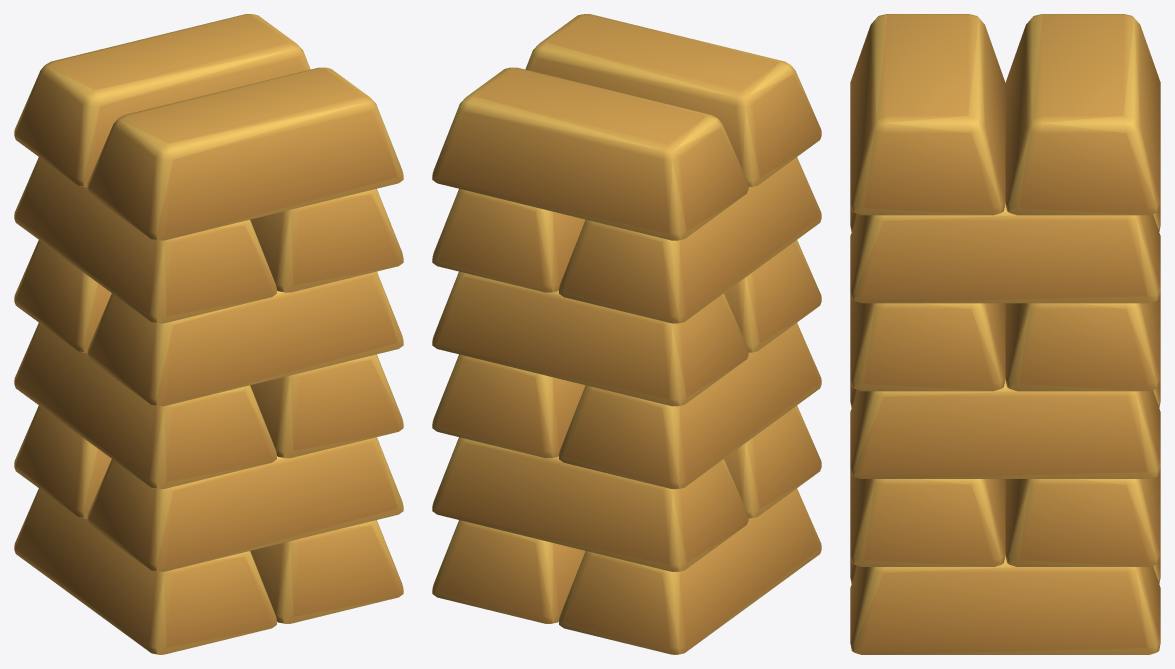
File: gold_bars_stack_medium.glb
3 renders of one model, left to right at view 1: azimuth 30°, elevation 25°; view 2: azimuth 150°, elevation 25°; view 3: azimuth 270°, elevation 25°, orthographic. The views are drawn at different scales.
Parts seen in each view (by area): view 1: Gold_Bars_Stack_Medium; view 2: Gold_Bars_Stack_Medium; view 3: Gold_Bars_Stack_Medium.
Part boxes in pixels (x1=…): Gold_Bars_Stack_Medium: x1=14, y1=14, x2=403, y2=654; Gold_Bars_Stack_Medium: x1=432, y1=14, x2=821, y2=654; Gold_Bars_Stack_Medium: x1=850, y1=14, x2=1160, y2=654.
Bounding box in the file's own units: 0.4801 × 0.9 × 0.4801.
Materials: 1 (1 with a texture image).
